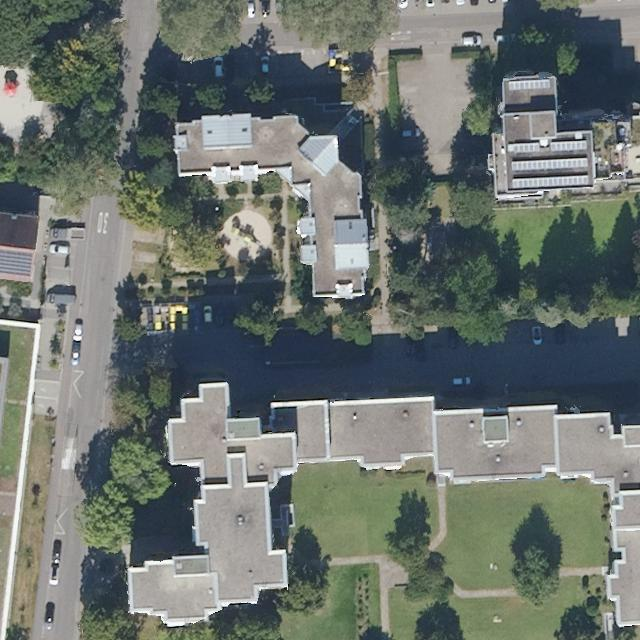PV: (509, 173, 591, 190), (510, 156, 590, 173), (1, 247, 35, 278), (506, 77, 552, 91), (548, 138, 589, 152), (506, 141, 541, 155)
